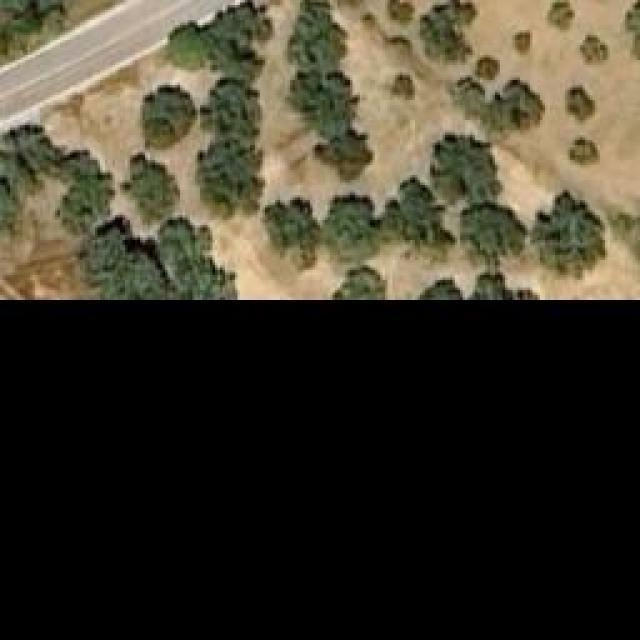Tree: (533, 190, 606, 273), (428, 130, 507, 205), (420, 253, 540, 298), (53, 150, 117, 233), (377, 175, 447, 249), (455, 78, 545, 133), (197, 143, 267, 212), (458, 197, 526, 267), (287, 0, 349, 73), (287, 70, 358, 132), (258, 195, 322, 263), (123, 148, 179, 225), (203, 75, 266, 143), (209, 0, 267, 71), (322, 193, 380, 257), (140, 85, 195, 152), (420, 0, 475, 65), (318, 125, 374, 184), (158, 23, 209, 72), (333, 263, 386, 300), (565, 85, 598, 128), (578, 33, 611, 66), (565, 138, 600, 168), (545, 0, 575, 32), (625, 0, 640, 60), (393, 75, 416, 100), (515, 33, 530, 53)
